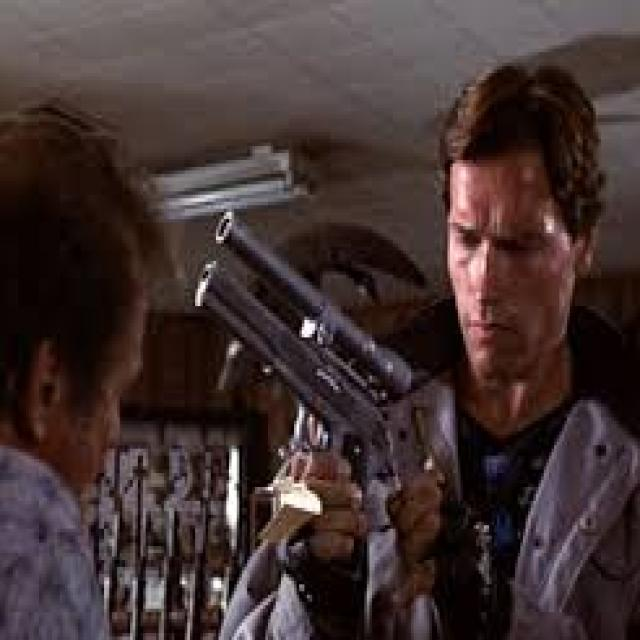gun: (174, 189, 473, 621)
